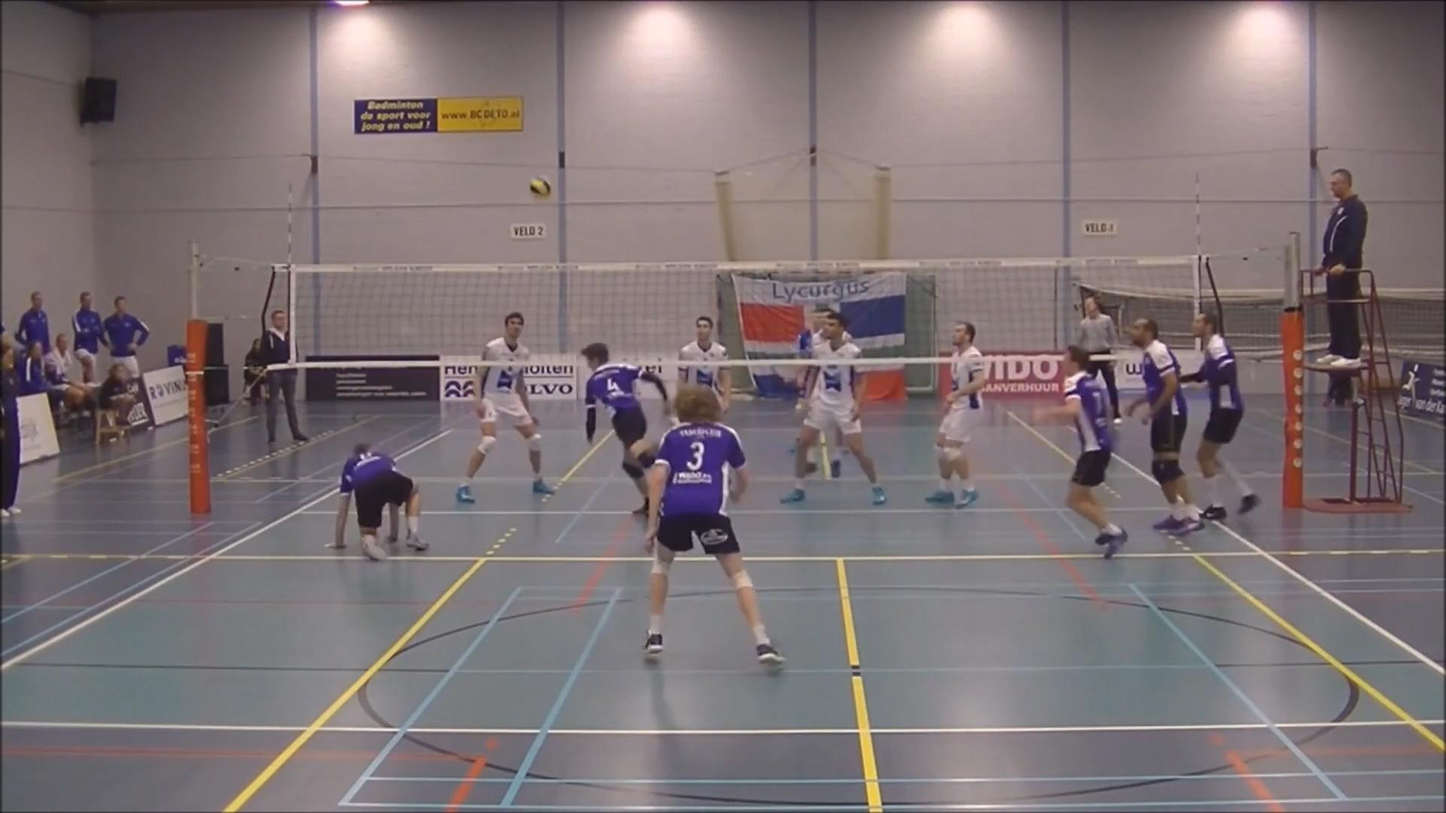Player: (645, 385, 782, 665), (780, 312, 886, 504), (1033, 346, 1127, 558), (456, 312, 554, 503), (1125, 318, 1202, 534), (1182, 314, 1259, 520), (581, 344, 669, 514), (328, 443, 429, 561), (926, 321, 988, 507), (679, 315, 731, 412), (797, 304, 831, 359)
ball: (533, 179, 549, 194)
